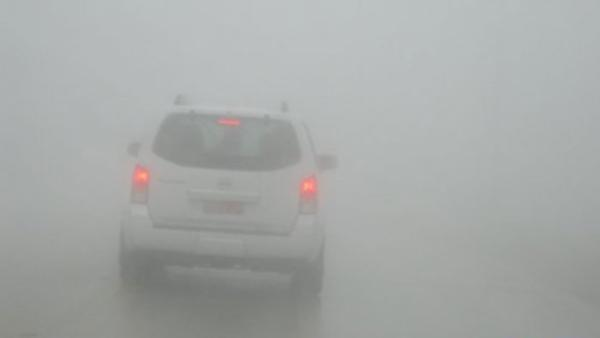car: (116, 94, 338, 327)
